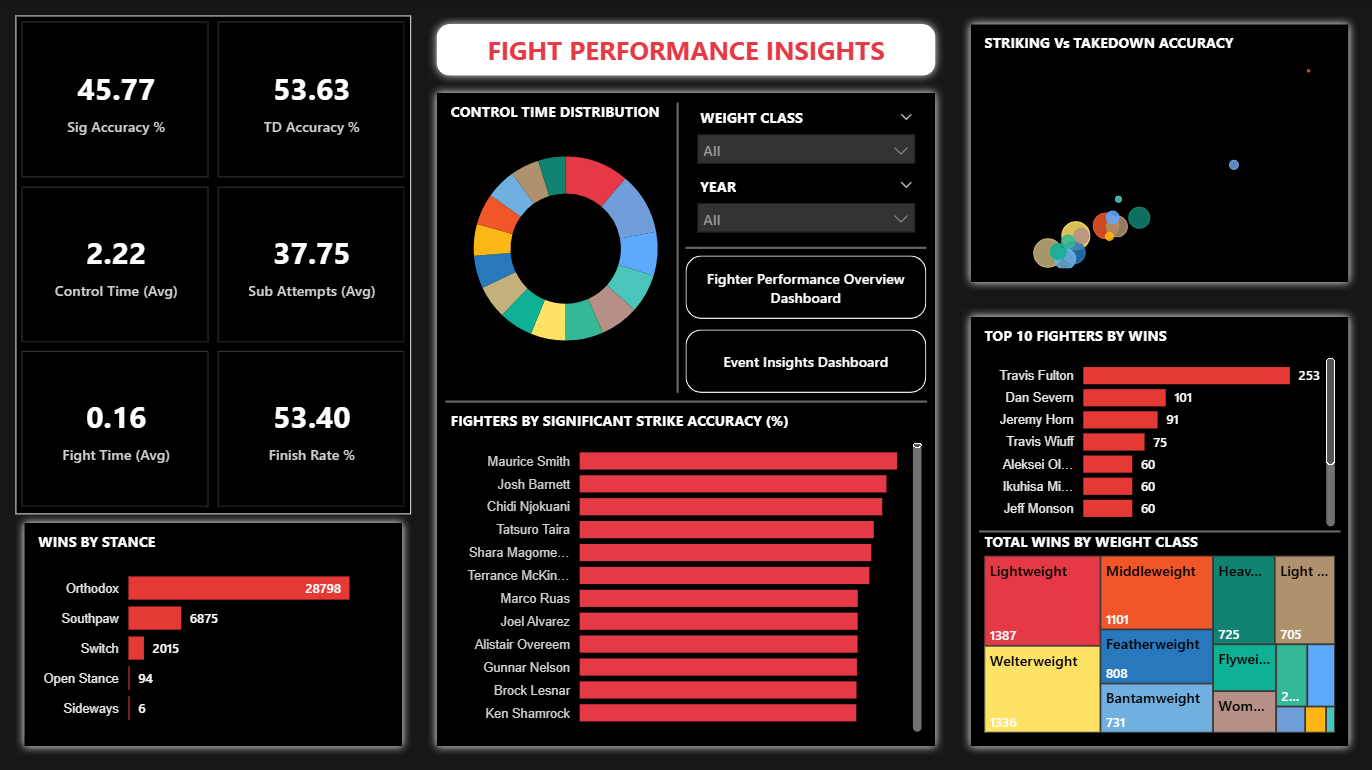

This screenshot's page, from the dashboard's own definition file:
{"tool":"powerbi","page":{"name":"Fight Analytics Dashboard","canvas":[1280,720],"ordinal":2},"visuals":[{"type":"shape","box":[400,16,480,64],"z":0},{"type":"cardVisual","fields":{"Data":["Fights.Sig Accuracy %","Fights.TD Accuracy %","Fights.Control Time (Avg)","Fights.Sub Attempts (Avg)","Fights.Fight Time (Avg)","Fights.Finish Rate %"]},"box":[16,16,368,464],"z":1000},{"type":"shape","box":[400,80,480,624],"z":2000},{"type":"shape","box":[896,16,368,256],"z":3000,"group":"g2"},{"type":"shape","box":[896,288,368,416],"z":3000,"group":"g3"},{"type":"barChart","title":"FIGHTERS BY SIGNIFICANT STRIKE ACCURACY (%)","fields":{"Category":["Fighters Stats.Full Name"],"Y":["Fights.Sig. Accuracy Per Fighter %"]},"box":[416,384,448,304],"z":3000},{"type":"donutChart","title":"CONTROL TIME DISTRIBUTION","fields":{"Y":["Fights.Control Time (Avg)"],"Category":["Fights.Weight_Class"]},"box":[416,96,224,256],"z":4000},{"type":"group","id":"g1","title":"Group 1","box":[16,480,368,224],"z":5000},{"type":"group","id":"g2","title":"Group 2","box":[896,16,368,256],"z":6000},{"type":"clusteredBarChart","title":"TOP 10 FIGHTERS BY WINS","fields":{"Category":["Fighters Stats.Full Name"],"Y":["Sum(Fighters Stats.W)"]},"box":[912,304,336,192],"z":6000,"group":"g3"},{"type":"scatterChart","title":"STRIKING Vs TAKEDOWN ACCURACY","fields":{"Y":["Fights.TD Accuracy %"],"X":["Fights.Sig Accuracy %"],"Series":["Fights.Weight_Class"],"Size":["Fights.Wins by Weight Class"]},"box":[912,32,336,224],"z":7000,"group":"g2"},{"type":"shape","box":[416,368,448,16],"z":7000},{"type":"treemap","title":"TOTAL WINS BY WEIGHT CLASS","fields":{"Values":["Fights.Wins by Weight Class"],"Group":["Fights.Weight_Class"]},"box":[912,496,336,192],"z":7000,"group":"g3"},{"type":"shape","box":[624,96,16,272],"z":8000},{"type":"group","id":"g3","title":"Group 3","box":[896,288,368,416],"z":9000},{"type":"shape","box":[16,480,368,224],"z":9500,"group":"g1"},{"type":"slicer","fields":{"Values":["Fighters Stats.Weight_Class"]},"box":[640,96,224,64],"z":10000},{"type":"barChart","title":"WINS BY STANCE","fields":{"Category":["Fighters Stats.Stance"],"Y":["Sum(Fighters Stats.W)"]},"box":[32,496,336,192],"z":10000,"group":"g1"},{"type":"shape","box":[912,480,336,32],"z":10003,"group":"g3"},{"type":"slicer","fields":{"Values":["Calendar.Year"]},"box":[640,160,224,64],"z":11000},{"type":"shape","box":[640,224,224,16],"z":12000},{"type":"pageNavigator","box":[640,240,224,128],"z":12001}]}

Visuals, with their boxes in screenshot pixels (x1, y1, x2, y2), scaled from the page's 1280x720 canvas onto the 1372x770 screenshot:
shape: x1=429 y1=17 x2=943 y2=86
cardVisual - Fights.Sig Accuracy % x Fights.TD Accuracy %: x1=17 y1=17 x2=412 y2=513
shape: x1=429 y1=86 x2=943 y2=753
shape: x1=960 y1=17 x2=1355 y2=291
shape: x1=960 y1=308 x2=1355 y2=753
"FIGHTERS BY SIGNIFICANT STRIKE ACCURACY (%)" barChart: x1=446 y1=411 x2=926 y2=736
"CONTROL TIME DISTRIBUTION" donutChart: x1=446 y1=103 x2=686 y2=376
"Group 1" group: x1=17 y1=513 x2=412 y2=753
"Group 2" group: x1=960 y1=17 x2=1355 y2=291
"TOP 10 FIGHTERS BY WINS" clusteredBarChart: x1=978 y1=325 x2=1338 y2=530
"STRIKING Vs TAKEDOWN ACCURACY" scatterChart: x1=978 y1=34 x2=1338 y2=274
shape: x1=446 y1=394 x2=926 y2=411
"TOTAL WINS BY WEIGHT CLASS" treemap: x1=978 y1=530 x2=1338 y2=736
shape: x1=669 y1=103 x2=686 y2=394
"Group 3" group: x1=960 y1=308 x2=1355 y2=753
shape: x1=17 y1=513 x2=412 y2=753
slicer - Fighters Stats.Weight_Class: x1=686 y1=103 x2=926 y2=171
"WINS BY STANCE" barChart: x1=34 y1=530 x2=394 y2=736
shape: x1=978 y1=513 x2=1338 y2=548
slicer - Calendar.Year: x1=686 y1=171 x2=926 y2=240
shape: x1=686 y1=240 x2=926 y2=257
pageNavigator: x1=686 y1=257 x2=926 y2=394
